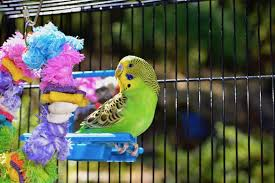budgie: (74, 54, 159, 135)
